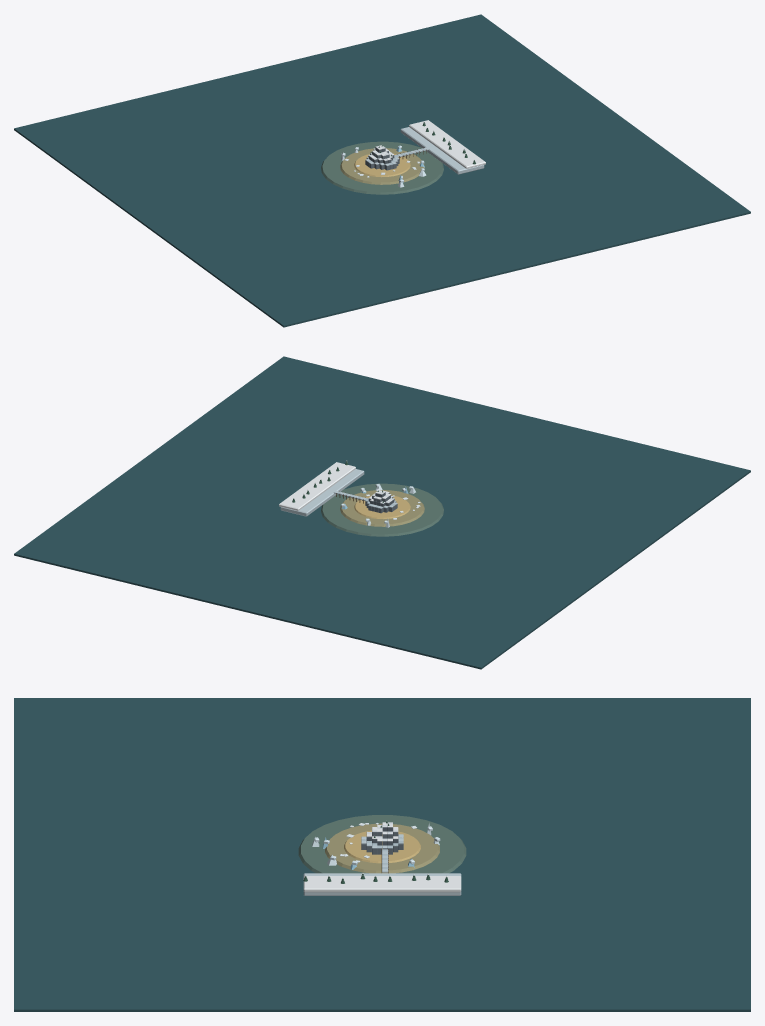
File: island-icebound-strand.glb
3 renders of one model, top to bottom at view 1: azimuth 30°, elevation 25°; view 2: azimuth 150°, elevation 25°; view 3: azimuth 270°, elevation 25°, orthographic. The views are drawn at different scales.
Visible parts, largest first — view 1: Icebound Strand; view 2: Icebound Strand; view 3: Icebound Strand.
Boxes of the visible parts, box(x1,y1,x2,y2) form: Icebound Strand: box(14, 14, 750, 327); Icebound Strand: box(14, 356, 750, 669); Icebound Strand: box(14, 698, 750, 1011).
Bounding box in the file's own units: 140 × 7.2 × 140.
